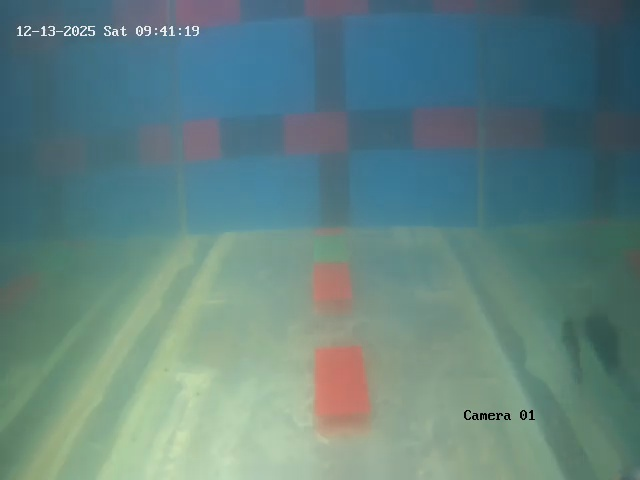fish: (559, 310, 595, 390)
